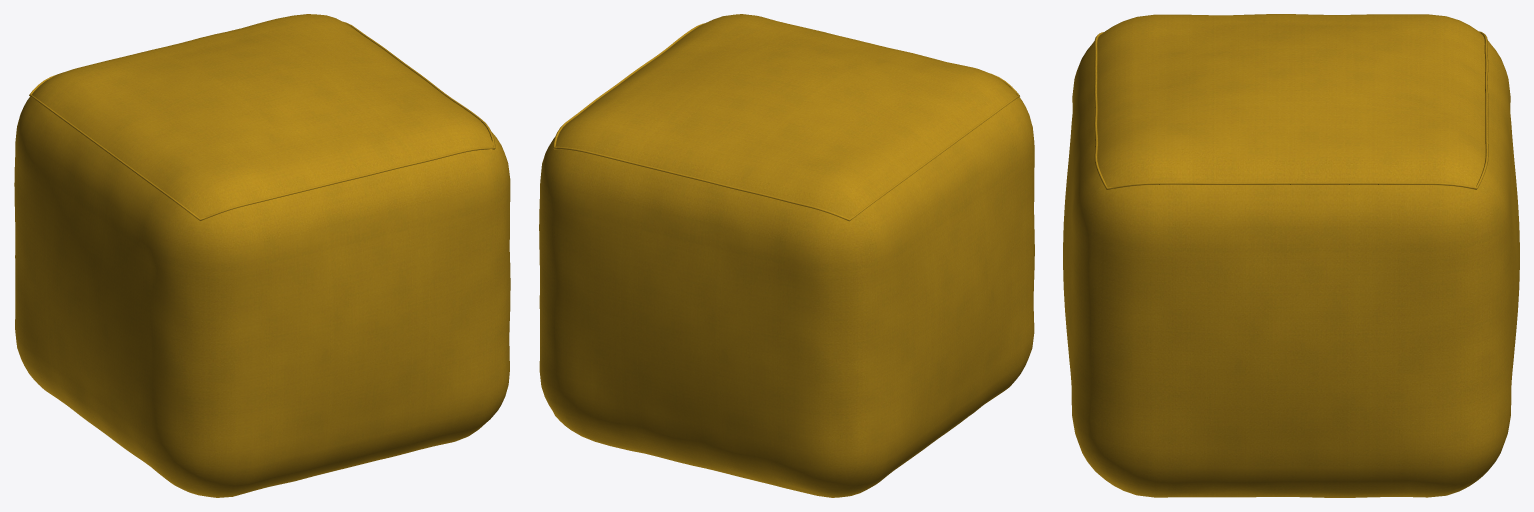
Rendered from stanza-puff-square-01-mobile.glb.
The picture shows the model from 3 angles, left to right: view 1: azimuth 30°, elevation 25°; view 2: azimuth 150°, elevation 25°; view 3: azimuth 270°, elevation 25°; orthographic projection. The views are drawn at different scales.
Visible parts, largest first — view 1: puff_cover, puff_seam_top; view 2: puff_cover, puff_seam_top; view 3: puff_cover, puff_seam_top.
Boxes of the visible parts, x1,y1,x2,y2 form: puff_cover: (14, 14, 510, 497); puff_seam_top: (29, 21, 495, 221); puff_cover: (539, 14, 1034, 497); puff_seam_top: (553, 23, 1019, 221); puff_cover: (1063, 14, 1519, 497); puff_seam_top: (1094, 31, 1488, 190).
Size of the model in its own units: 0.4699 by 0.4189 by 0.4699.
Materials: 2 (2 with a texture image).
